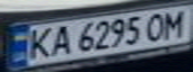2: (93, 17, 115, 52)
5: (124, 13, 148, 46)
6: (75, 20, 96, 54)
9: (109, 16, 130, 48)
A: (48, 22, 75, 56)
K: (21, 25, 54, 61)
M: (160, 7, 190, 38)
O: (142, 10, 172, 42)
